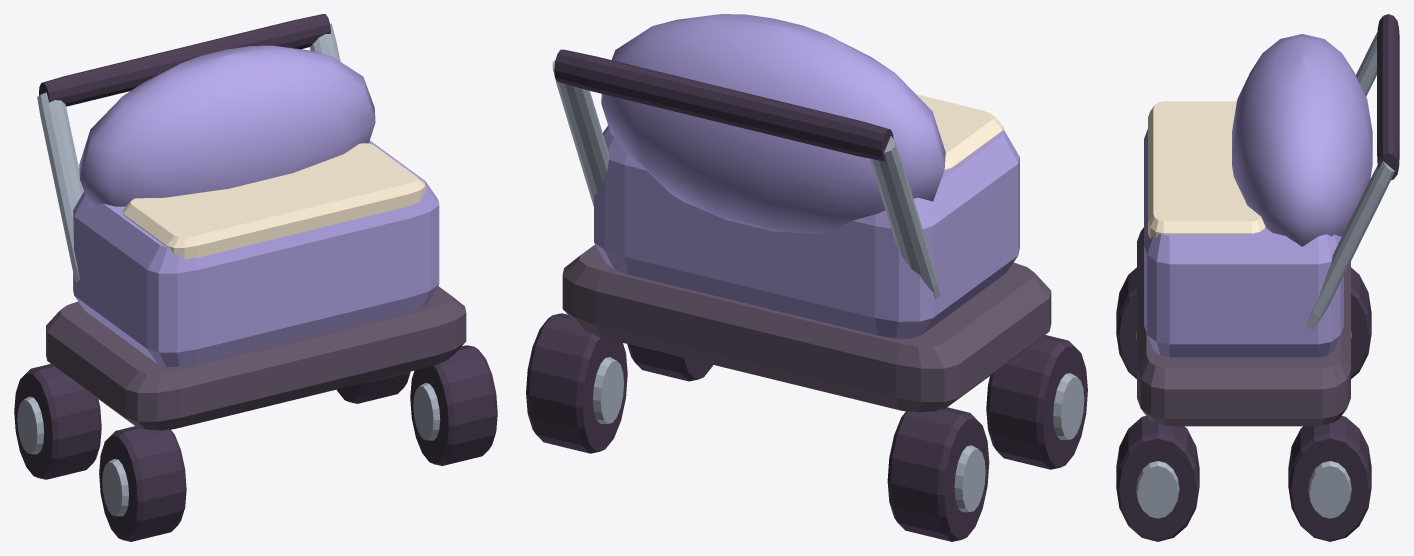
The model's file is baby_stroller.glb.
3 views of the same model, side by side, from view 1: azimuth 30°, elevation 25°; view 2: azimuth 150°, elevation 25°; view 3: azimuth 270°, elevation 25° (orthographic). The views are drawn at different scales.
Visible parts, largest first — view 1: model, tire, hub; view 2: model, tire, hub; view 3: model, tire, hub.
Part boxes in pixels (left/top/right/bottom): model: left=37, top=14, right=466, bottom=430; tire: left=14, top=345, right=497, bottom=541; hub: left=17, top=383, right=440, bottom=516; model: left=552, top=14, right=1051, bottom=412; tire: left=526, top=313, right=1087, bottom=541; hub: left=593, top=357, right=1084, bottom=512; model: left=1137, top=14, right=1399, bottom=426; tire: left=1116, top=267, right=1371, bottom=541; hub: left=1136, top=331, right=1351, bottom=518.
Bounding box in the file's own units: 1 × 1 × 0.65.
